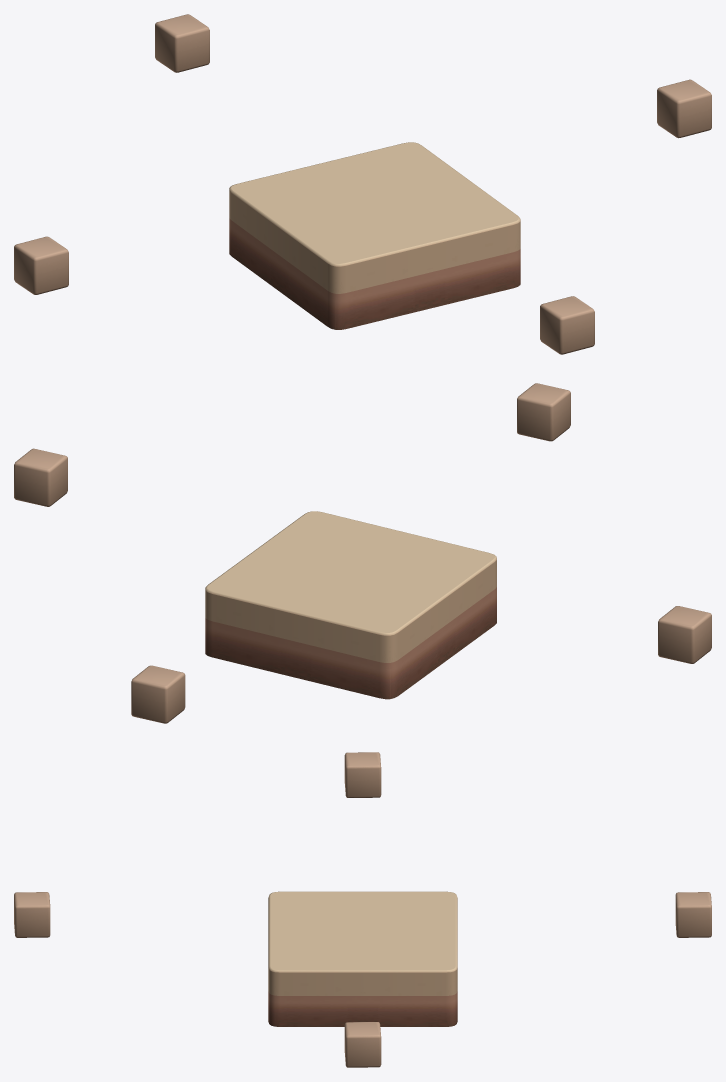
File: Props.fbx
The picture shows the model from 3 angles, top to bottom: view 1: azimuth 30°, elevation 25°; view 2: azimuth 150°, elevation 25°; view 3: azimuth 270°, elevation 25°; orthographic projection. The views are drawn at different scales.
Visible parts, largest first — view 1: Box02, Box1-5 (9), Box1-5 (10), Box1-5 (7), Box1-5 (8); view 2: Box02, Box1-5 (10), Box1-5 (9), Box1-5 (7), Box1-5 (8); view 3: Box02, Box1-5 (7), Box1-5 (8), Box1-5 (9), Box1-5 (10).
Part boxes in pixels (left/top/right/bottom): Box02: left=229, top=142, right=520, bottom=329; Box1-5 (9): left=540, top=296, right=594, bottom=354; Box1-5 (10): left=155, top=14, right=209, bottom=72; Box1-5 (7): left=657, top=79, right=711, bottom=138; Box1-5 (8): left=14, top=236, right=68, bottom=294; Box02: left=205, top=511, right=496, bottom=699; Box1-5 (10): left=131, top=665, right=185, bottom=723; Box1-5 (9): left=517, top=383, right=570, bottom=441; Box1-5 (7): left=14, top=448, right=67, bottom=506; Box1-5 (8): left=658, top=606, right=711, bottom=663; Box02: left=268, top=891, right=457, bottom=1026; Box1-5 (7): left=344, top=1022, right=381, bottom=1067; Box1-5 (8): left=344, top=752, right=381, bottom=797; Box1-5 (9): left=14, top=892, right=50, bottom=937; Box1-5 (10): left=675, top=892, right=711, bottom=937.
Size of the model in its own units: 28.54 by 4.12 by 29.54.
